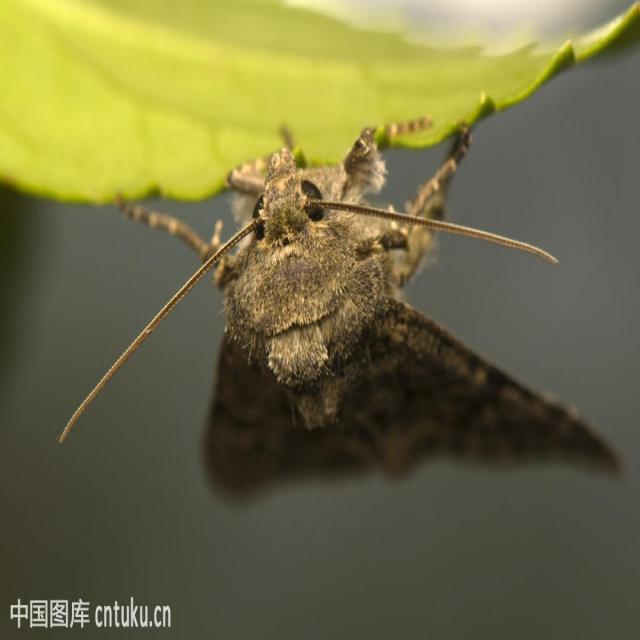armyworm: (127, 118, 588, 435)
